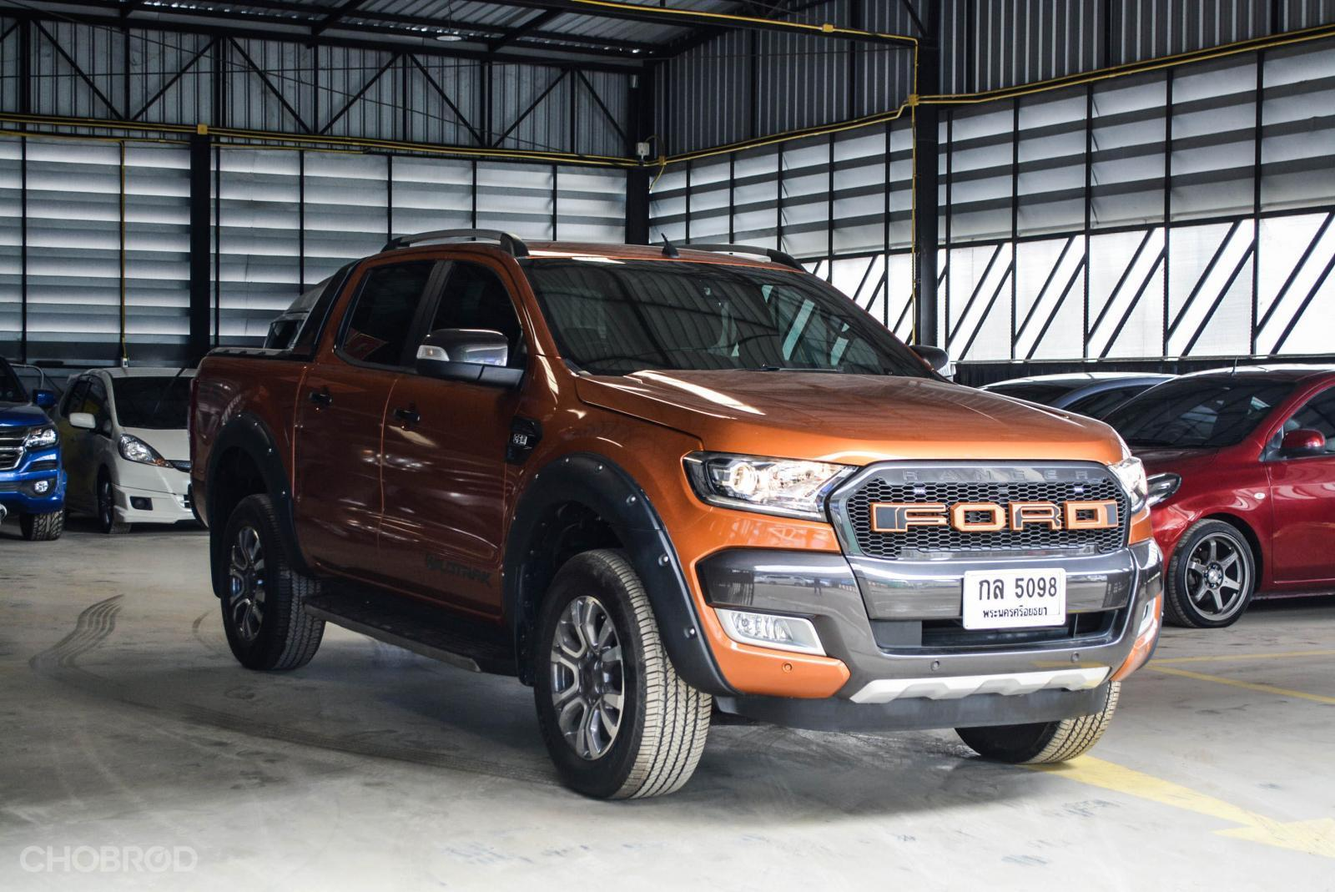license-plate: (961, 565, 1072, 632)
